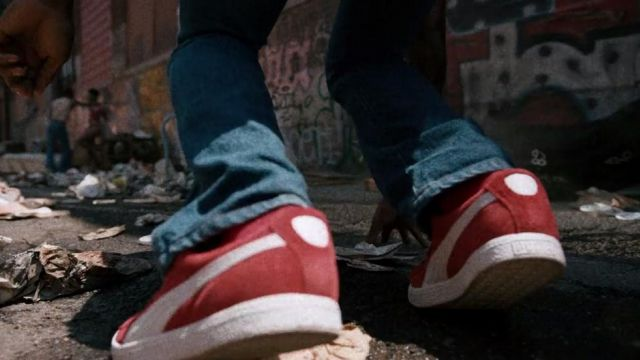Puma Suede Low Red: (98, 200, 358, 360), (394, 161, 575, 313)
